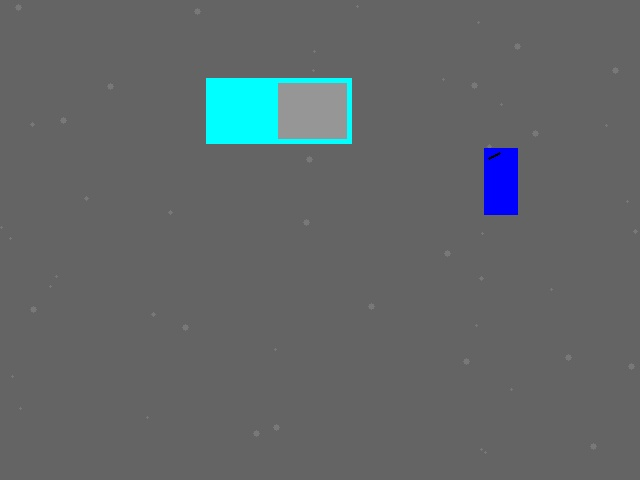motorcycle: (484, 148, 517, 214)
truck: (206, 78, 351, 143)
